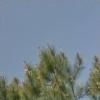Tree: (15, 37, 90, 100)
